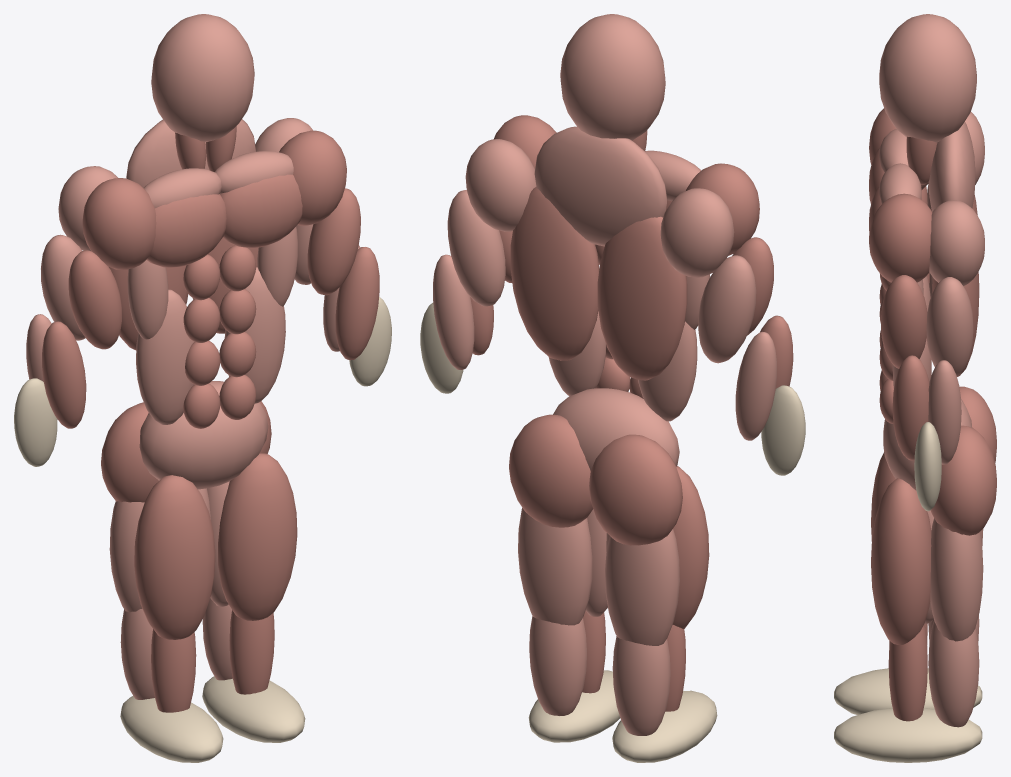
File: muscle_mannequin_front.glb
The picture shows the model from 3 angles, left to right: view 1: azimuth 30°, elevation 25°; view 2: azimuth 150°, elevation 25°; view 3: azimuth 270°, elevation 25°; orthographic projection.
Visible parts, largest first — view 1: quadriceps_l, quadriceps_r, head, pelvis_core, deltoid_anterior_l, external_oblique_l, foot_l, foot_r, pectoralis_major_r, pectoralis_major_l, deltoid_anterior_r, biceps_brachii_l (+36 smaller); view 2: latissimus_dorsi_r, latissimus_dorsi_l, trapezius, head, gluteus_maximus_l, gluteus_maximus_r, hamstrings_l, hamstrings_r, pelvis_core, deltoid_posterior_l, deltoid_posterior_r, gastrocnemius_r (+23 smaller); view 3: head, quadriceps_r, foot_r, hamstrings_r, gluteus_maximus_r, deltoid_anterior_r, gastrocnemius_r, deltoid_posterior_r, triceps_brachii_r, biceps_brachii_r, trapezius, tibialis_anterior_r (+17 smaller).
Boxes of the visible parts, x1,y1,x2,y2 form: quadriceps_l: [134, 475, 215, 639]; quadriceps_r: [218, 453, 297, 620]; head: [151, 14, 254, 141]; pelvis_core: [139, 381, 268, 489]; deltoid_anterior_l: [82, 178, 156, 269]; external_oblique_l: [136, 289, 194, 424]; foot_l: [120, 696, 223, 762]; foot_r: [202, 676, 305, 742]; pectoralis_major_r: [220, 174, 302, 247]; pectoralis_major_l: [146, 194, 226, 267]; deltoid_anterior_r: [279, 130, 346, 225]; biceps_brachii_l: [68, 250, 121, 349]; latissimus_dorsi_r: [510, 187, 599, 360]; latissimus_dorsi_l: [597, 216, 687, 380]; trapezius: [534, 126, 667, 246]; head: [560, 14, 665, 140]; gluteus_maximus_l: [589, 434, 682, 545]; gluteus_maximus_r: [509, 414, 593, 527]; hamstrings_l: [605, 529, 679, 645]; hamstrings_r: [518, 508, 592, 625]; pelvis_core: [553, 388, 679, 470]; deltoid_posterior_l: [660, 188, 734, 277]; deltoid_posterior_r: [465, 139, 536, 231]; gastrocnemius_r: [529, 616, 586, 715]; head: [879, 14, 976, 142]; quadriceps_r: [871, 478, 931, 644]; foot_r: [834, 708, 982, 762]; hamstrings_r: [930, 518, 983, 641]; gluteus_maximus_r: [930, 425, 996, 535]; deltoid_anterior_r: [869, 193, 932, 282]; gastrocnemius_r: [928, 620, 979, 727]; deltoid_posterior_r: [929, 200, 984, 286]; triceps_brachii_r: [926, 277, 973, 376]; biceps_brachii_r: [881, 275, 927, 368]; trapezius: [928, 121, 975, 211]; tibialis_anterior_r: [888, 624, 927, 721].
Size of the model in its own units: 2.2 by 4 by 0.8215.
